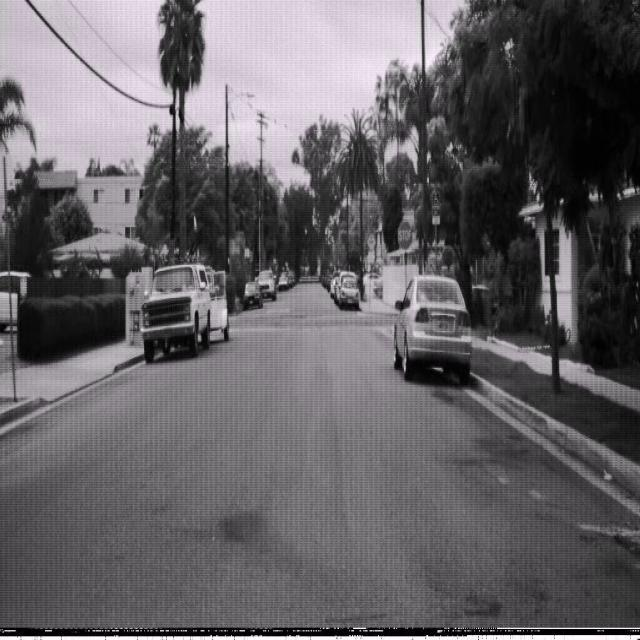stop: (397, 220, 412, 250)
